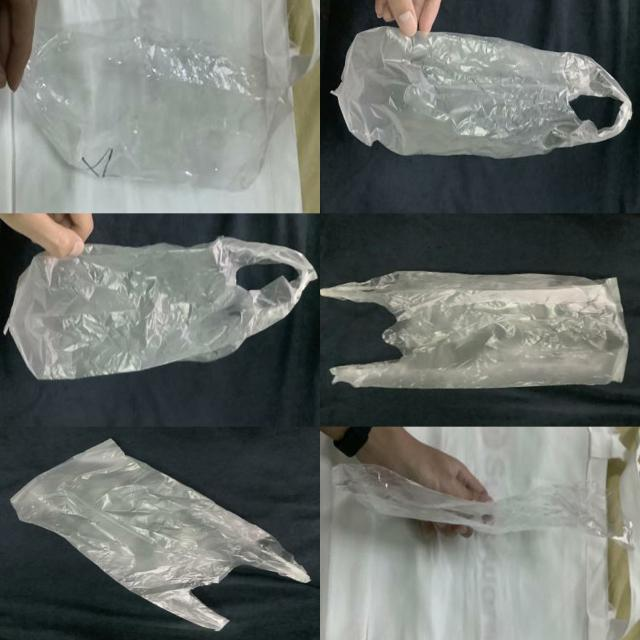Single-layer Plastic: (11, 439, 309, 629), (20, 20, 288, 190), (5, 238, 316, 379), (333, 26, 632, 159), (320, 271, 628, 389), (332, 464, 632, 547)
